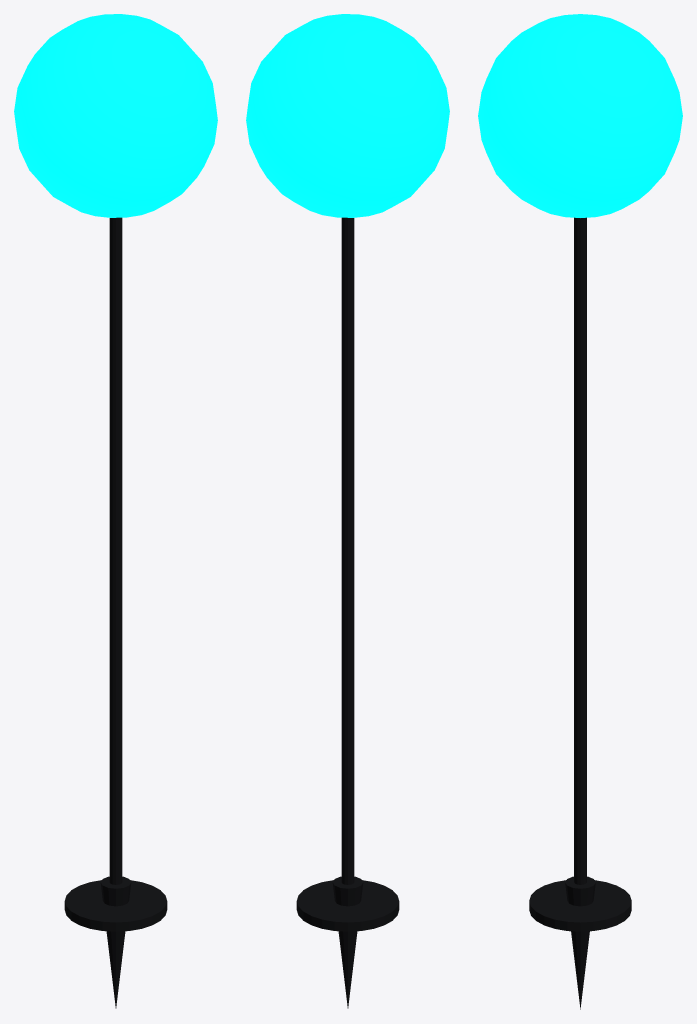
The model's file is plot-pin.glb.
The picture shows the model from 3 angles, left to right: view 1: azimuth 30°, elevation 25°; view 2: azimuth 150°, elevation 25°; view 3: azimuth 270°, elevation 25°; orthographic projection.
Parts seen in each view (by area): view 1: PlotPin; view 2: PlotPin; view 3: PlotPin.
Boxes of the visible parts, bbox=[...] form: PlotPin: bbox=[14, 14, 217, 1008]; PlotPin: bbox=[246, 14, 449, 1008]; PlotPin: bbox=[478, 14, 682, 1009].
Bounding box in the file's own units: 0.8 × 4.25 × 0.8.
